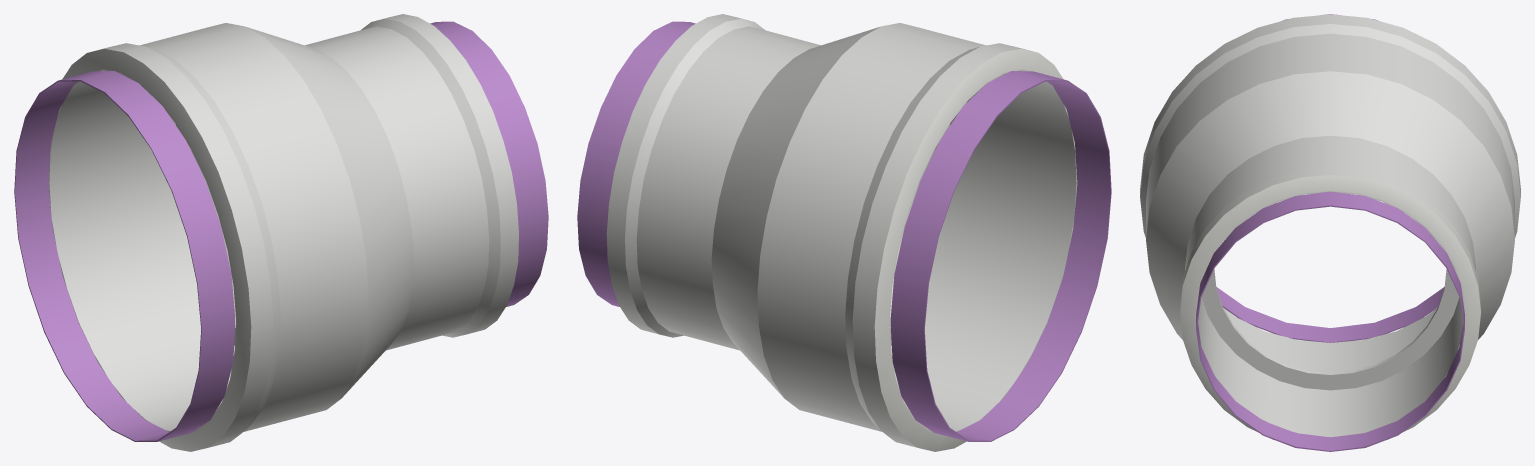
The model's file is slab_pipes_dwv__sewer-septic_overland_lee+septic_spray.glb.
3 views of the same model, side by side, from view 1: azimuth 30°, elevation 25°; view 2: azimuth 150°, elevation 25°; view 3: azimuth 270°, elevation 25° (orthographic). The views are drawn at different scales.
Visible parts, largest first — view 1: fit_increaser_pipe_dwv_sewer_septic; view 2: fit_increaser_pipe_dwv_sewer_septic; view 3: fit_increaser_pipe_dwv_sewer_septic.
Boxes of the visible parts, bbox=[...] form: fit_increaser_pipe_dwv_sewer_septic: bbox=[14, 14, 548, 451]; fit_increaser_pipe_dwv_sewer_septic: bbox=[577, 14, 1111, 451]; fit_increaser_pipe_dwv_sewer_septic: bbox=[1140, 14, 1520, 451].
Size of the model in its own units: 0.1324 by 0.1274 by 0.1274.
